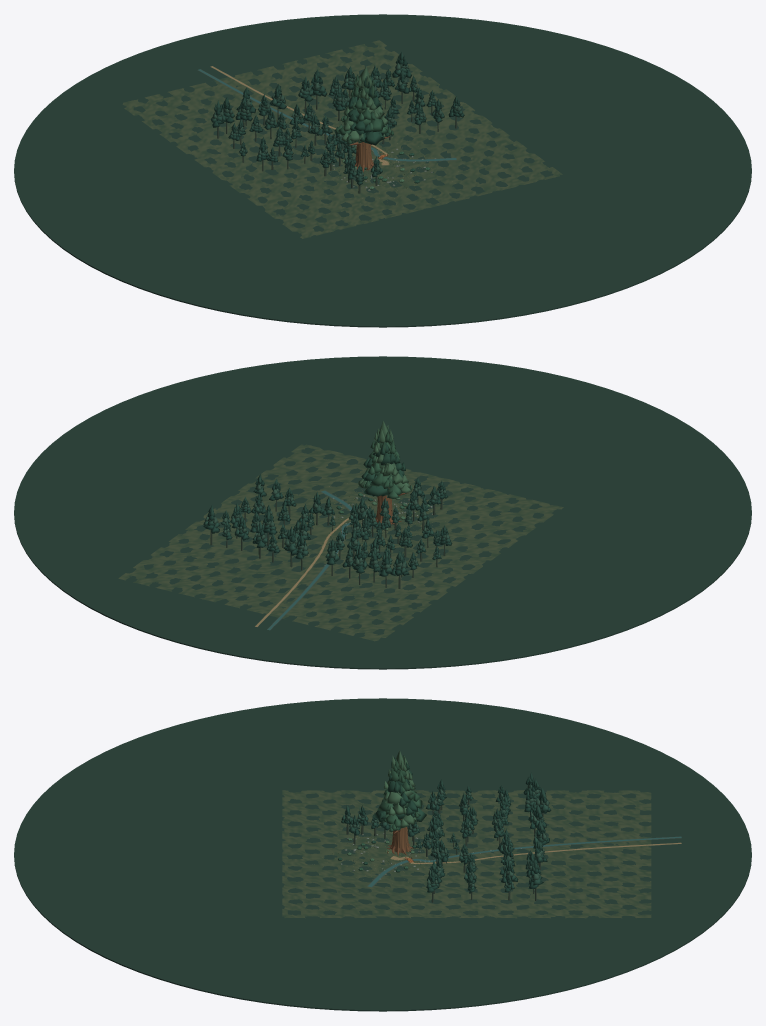
The model's file is pine-solo.glb.
The picture shows the model from 3 angles, top to bottom: view 1: azimuth 30°, elevation 25°; view 2: azimuth 150°, elevation 25°; view 3: azimuth 270°, elevation 25°; orthographic projection.
Parts seen in each view (by area): view 1: forest-263e35, forest-ffffff, forest-38493c; view 2: forest-263e35, forest-ffffff, forest-38493c; view 3: forest-263e35, forest-ffffff, forest-355e5b, forest-38493c.
Part boxes in pixels (x1=…): forest-263e35: x1=14, y1=14, x2=751, y2=327; forest-ffffff: x1=122, y1=40, x2=562, y2=238; forest-38493c: x1=217, y1=86, x2=457, y2=193; forest-263e35: x1=14, y1=356, x2=751, y2=669; forest-ffffff: x1=118, y1=420, x2=563, y2=641; forest-38493c: x1=210, y1=496, x2=445, y2=588; forest-263e35: x1=14, y1=698, x2=751, y2=1011; forest-ffffff: x1=282, y1=750, x2=681, y2=918; forest-355e5b: x1=368, y1=836, x2=681, y2=887; forest-38493c: x1=346, y1=799, x2=543, y2=902.
Bounding box in the file's own units: 220 × 33.27 × 220.
